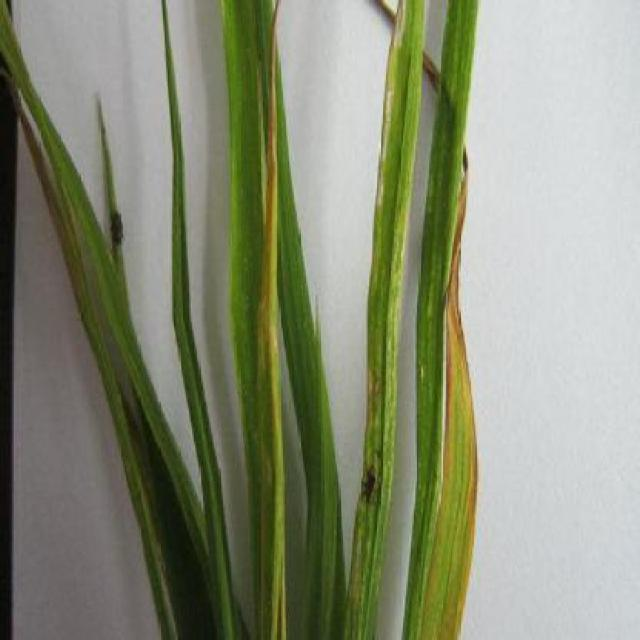rice-bug: (362, 458, 380, 502), (109, 209, 128, 248)
